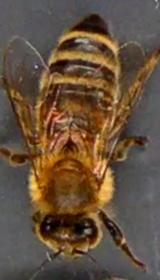varroa_mite: (44, 104, 70, 126)
